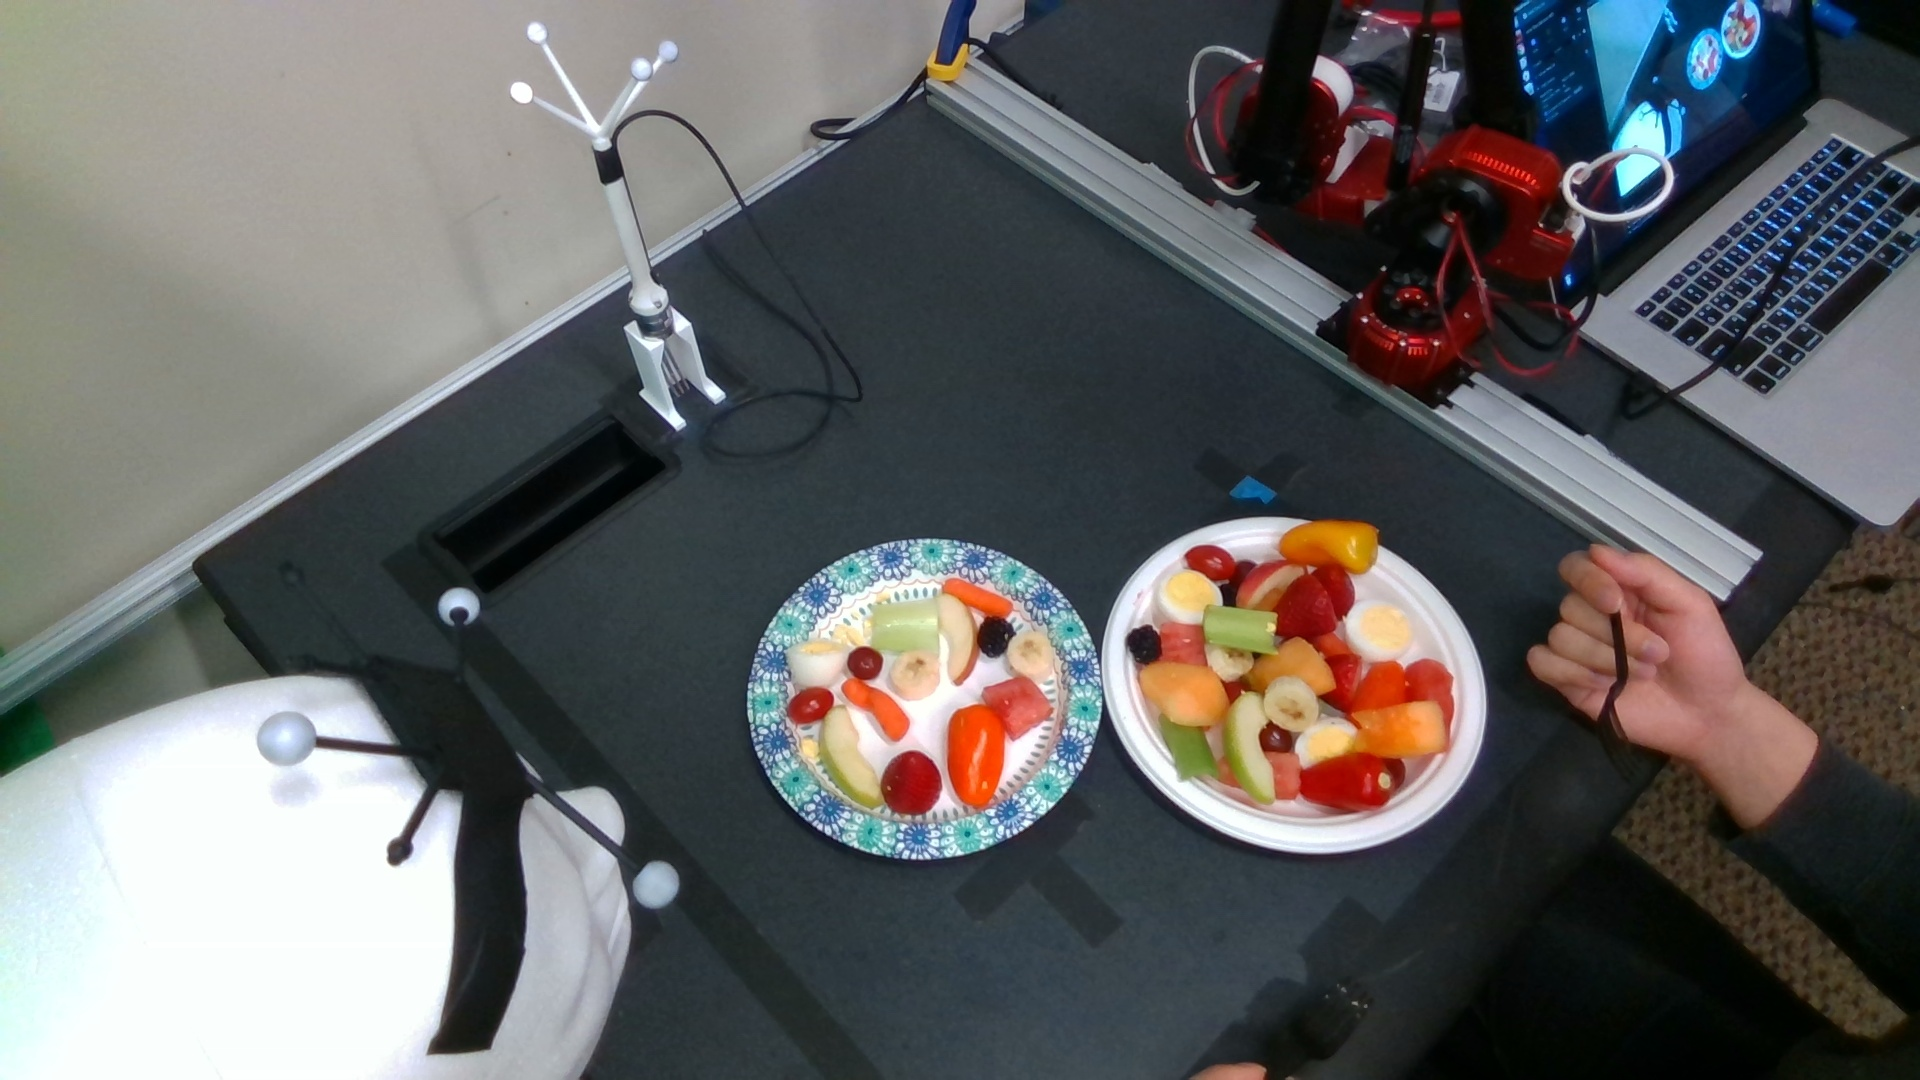apple: (820, 708, 897, 804), (1225, 688, 1273, 804), (939, 593, 978, 686), (1240, 560, 1311, 608)
banana: (1265, 676, 1320, 732), (887, 649, 942, 700), (1006, 633, 1054, 683)
bell_pepper: (947, 704, 1006, 808), (1300, 756, 1394, 814), (1278, 521, 1377, 574)
blackberry: (978, 618, 1015, 658), (1125, 625, 1160, 666)
cantalope: (1139, 658, 1230, 723), (1353, 704, 1447, 761), (1250, 638, 1338, 695)
carrot: (843, 676, 911, 741), (943, 578, 1014, 618)
celery: (1160, 712, 1220, 779), (1207, 603, 1280, 655), (872, 597, 939, 654)
cherry_tomato: (1184, 545, 1236, 582), (786, 688, 833, 723)
egg: (1349, 603, 1418, 665), (1163, 567, 1226, 624), (790, 640, 849, 688)
grape: (848, 647, 884, 680), (1233, 559, 1261, 583)
melon: (982, 676, 1052, 740), (1408, 663, 1456, 731), (1160, 621, 1209, 667)
plate: (1102, 517, 1487, 857), (746, 538, 1102, 861)
strawberry: (1275, 575, 1342, 640), (882, 752, 942, 816), (1320, 566, 1362, 620), (1323, 658, 1364, 712)
